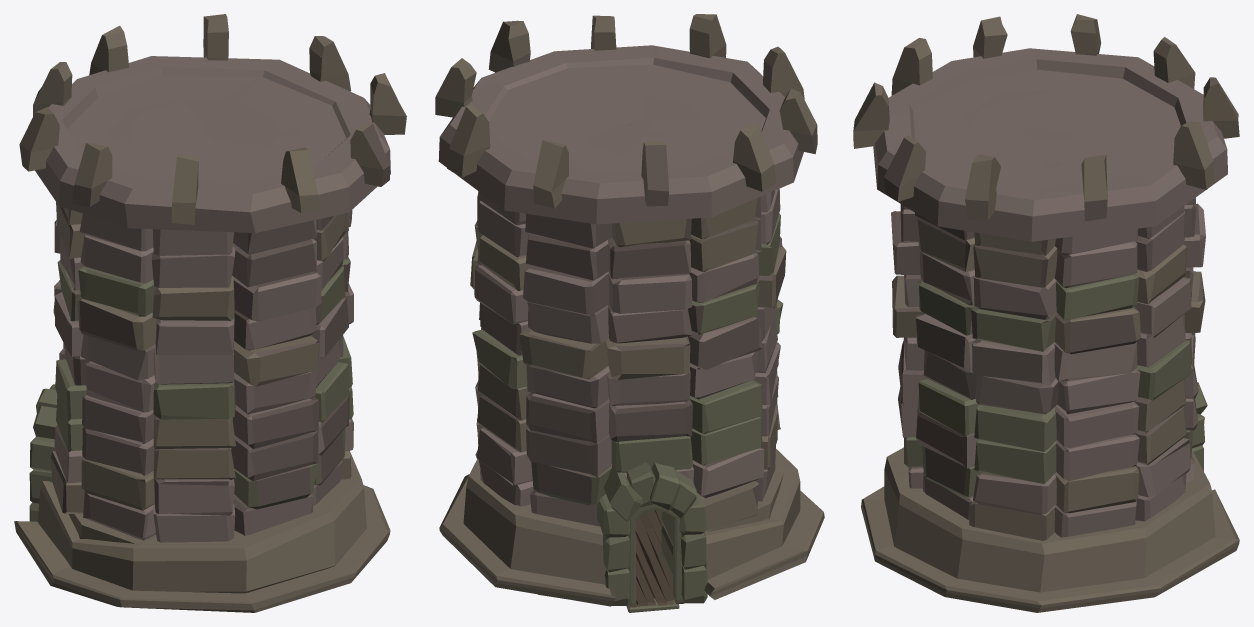
The model's file is Tower.fbx.
3 renders of one model, left to right at view 1: azimuth 30°, elevation 25°; view 2: azimuth 150°, elevation 25°; view 3: azimuth 270°, elevation 25°, orthographic.
Parts seen in each view (by area): view 1: Castle_Tower_2; view 2: Castle_Tower_2; view 3: Castle_Tower_2.
Part boxes in pixels (x1,y1,x2,y2): Castle_Tower_2: (14, 14, 406, 612); Castle_Tower_2: (435, 14, 824, 612); Castle_Tower_2: (853, 14, 1239, 612).
Size of the model in its own units: 7655 by 10122 by 7639.
Materials: 1 (1 with a texture image).
